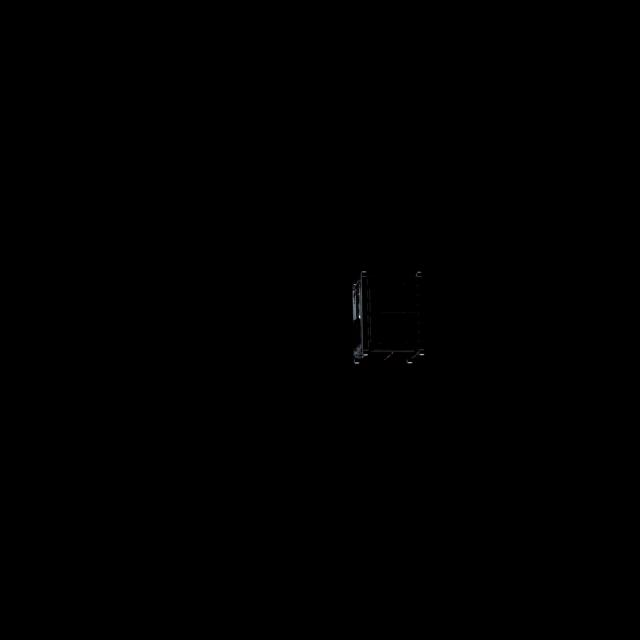satellite: (346, 264, 436, 374)
